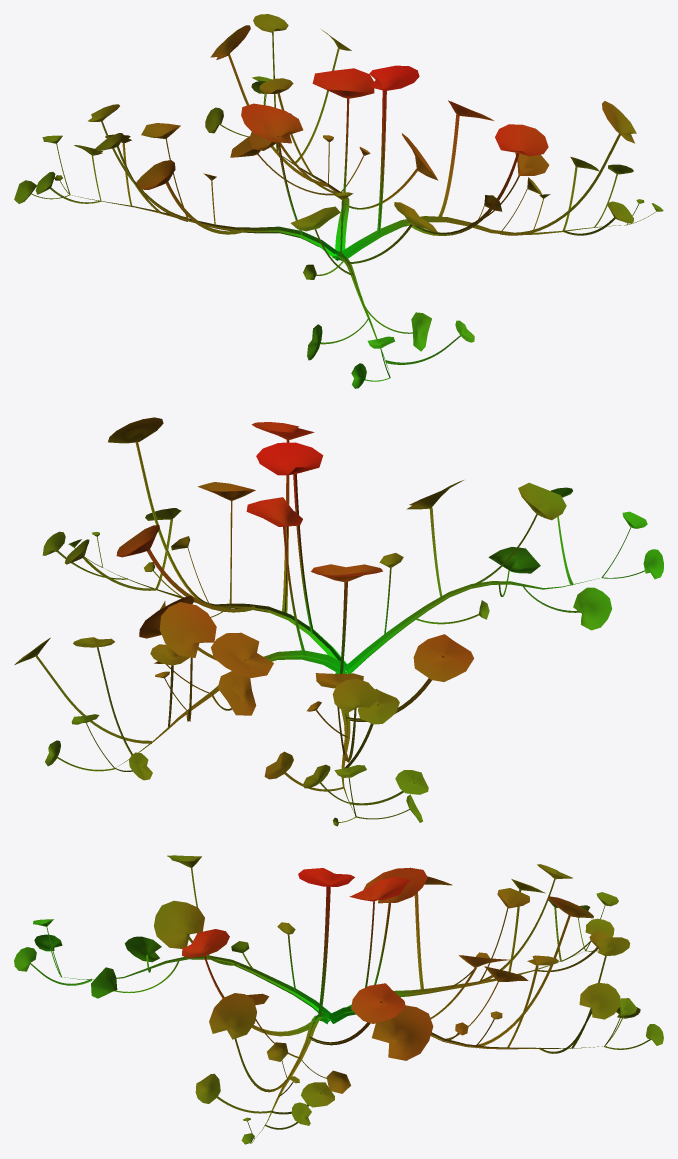
Rendered from Var1_LOD0.fbx.
3 renders of one model, top to bottom at view 1: azimuth 30°, elevation 25°; view 2: azimuth 150°, elevation 25°; view 3: azimuth 270°, elevation 25°, orthographic. The views are drawn at different scales.
Visible parts, largest first — view 1: _8354_Var1_LOD0; view 2: _8354_Var1_LOD0; view 3: _8354_Var1_LOD0.
Part boxes in pixels (x1=…): _8354_Var1_LOD0: x1=14, y1=14, x2=663, y2=388; _8354_Var1_LOD0: x1=14, y1=417, x2=663, y2=826; _8354_Var1_LOD0: x1=14, y1=855, x2=663, y2=1144.
Bounding box in the file's own units: 52.83 × 18.75 × 63.56.
